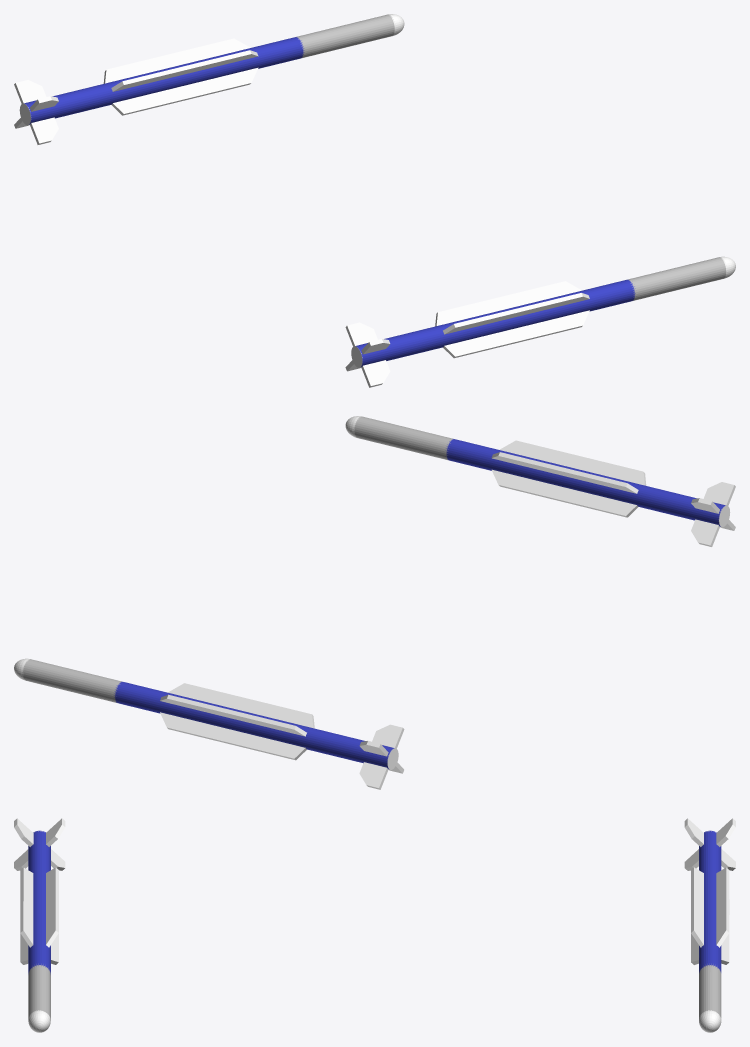
Rendered from aam5cf15j14.glb.
3 renders of one model, top to bottom at view 1: azimuth 30°, elevation 25°; view 2: azimuth 150°, elevation 25°; view 3: azimuth 270°, elevation 25°, orthographic.
Visible parts, largest first — view 1: 円柱.012, 円柱.003; view 2: 円柱.003, 円柱.012; view 3: 円柱.012, 円柱.003.
Boxes of the visible parts, <box> form: 円柱.012: <box>345,256,735,387</box>; 円柱.003: <box>14,14,404,144</box>; 円柱.003: <box>14,658,404,789</box>; 円柱.012: <box>345,416,735,546</box>; 円柱.012: <box>14,818,65,1032</box>; 円柱.003: <box>684,818,735,1032</box>.
Bounding box in the file's own units: 4 × 0.467 × 6.54.
Materials: 3 (1 with a texture image).
